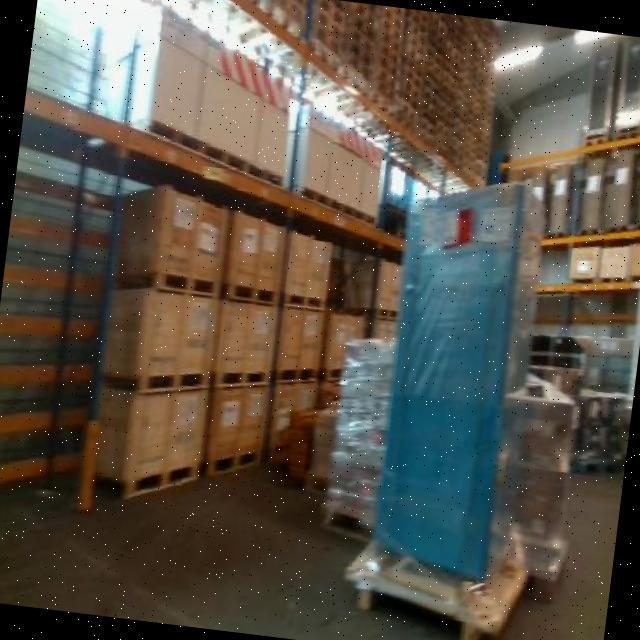pallet: (137, 107, 292, 195), (94, 460, 202, 512), (95, 361, 215, 406), (107, 266, 225, 304), (215, 272, 284, 316), (203, 441, 266, 485), (210, 359, 274, 396), (264, 356, 325, 392), (310, 1, 350, 47), (278, 283, 328, 316), (309, 19, 343, 66), (341, 303, 403, 324)
